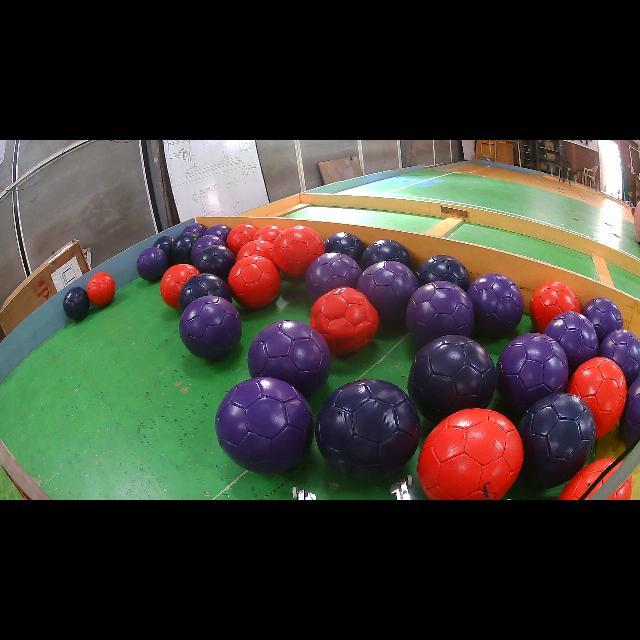B: (315, 380, 420, 480), (408, 335, 496, 422), (518, 392, 595, 489), (179, 274, 231, 312), (418, 255, 470, 290), (360, 239, 414, 270), (194, 245, 236, 281), (325, 232, 365, 262), (171, 232, 199, 264), (64, 286, 90, 320), (154, 236, 175, 266)
P: (215, 378, 314, 474), (248, 320, 331, 395), (496, 332, 569, 414), (406, 281, 474, 345), (179, 295, 242, 360), (358, 261, 419, 324), (468, 274, 524, 338), (544, 311, 599, 376), (305, 252, 361, 300), (599, 329, 640, 386), (581, 298, 624, 343), (620, 378, 640, 446), (136, 248, 168, 281), (191, 235, 226, 265), (204, 224, 231, 241), (184, 222, 208, 236)
R: (418, 409, 524, 500), (568, 356, 626, 437), (310, 288, 379, 355), (228, 255, 281, 309), (272, 225, 325, 278), (530, 281, 580, 332), (559, 459, 614, 500), (160, 264, 199, 309), (226, 224, 258, 255), (588, 466, 618, 497), (88, 272, 115, 306), (236, 240, 272, 261), (252, 225, 284, 244), (609, 476, 632, 500)
